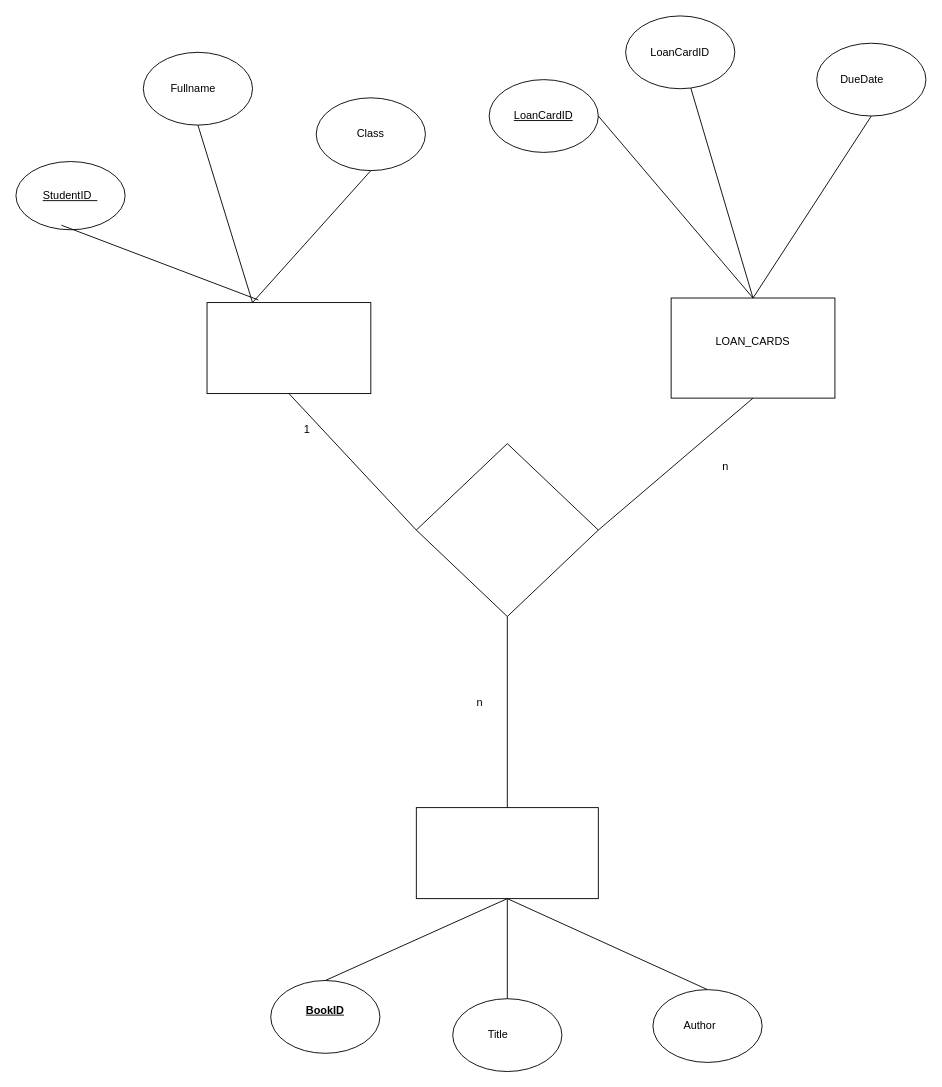
The diagram is 942 pixels wide and 1087 high, and some of its shapes have lost their labels. The shapes that lost their labels are listed below. From the top down, each one's centre as x and y in pixels, then its label:
(x=288, y=348): STUDENTS
(x=506, y=530): LOAN_DETAILS
(x=506, y=853): BOOKS
